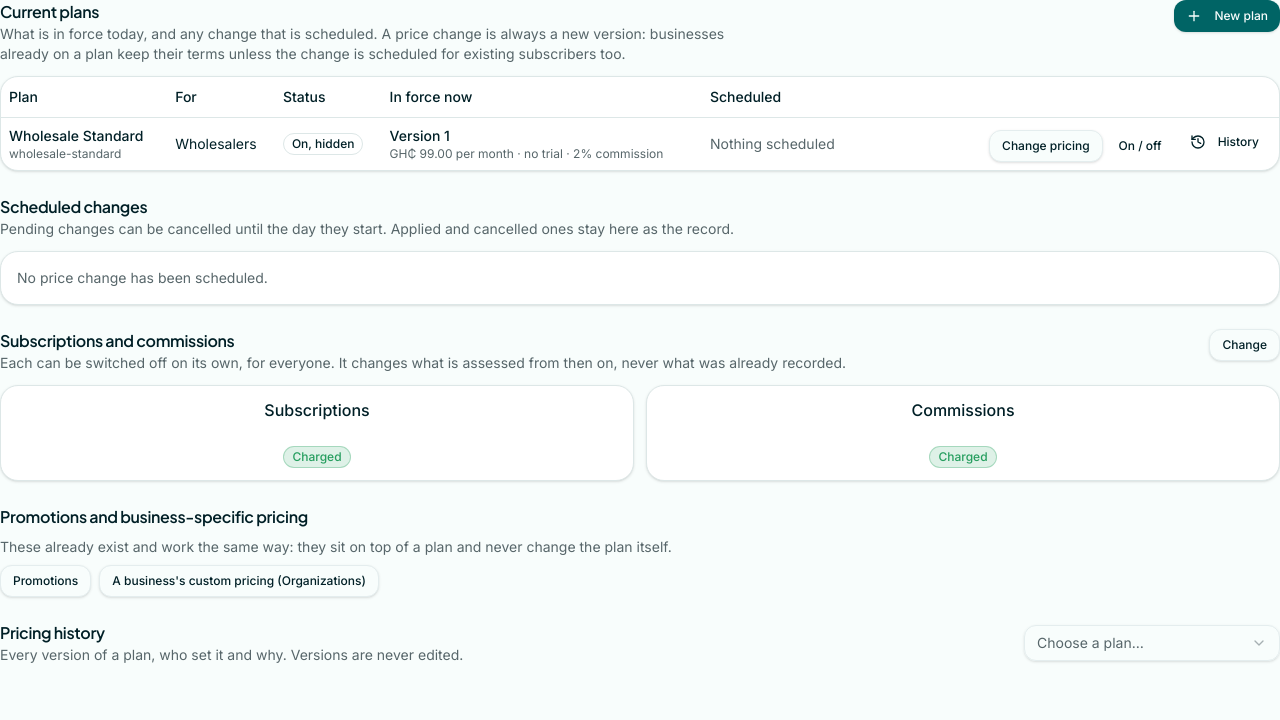
the recommended starting terms only fill the form: nothing is saved
Click the button "Change pricing" at (1046, 146), box [989, 130, 1103, 162]
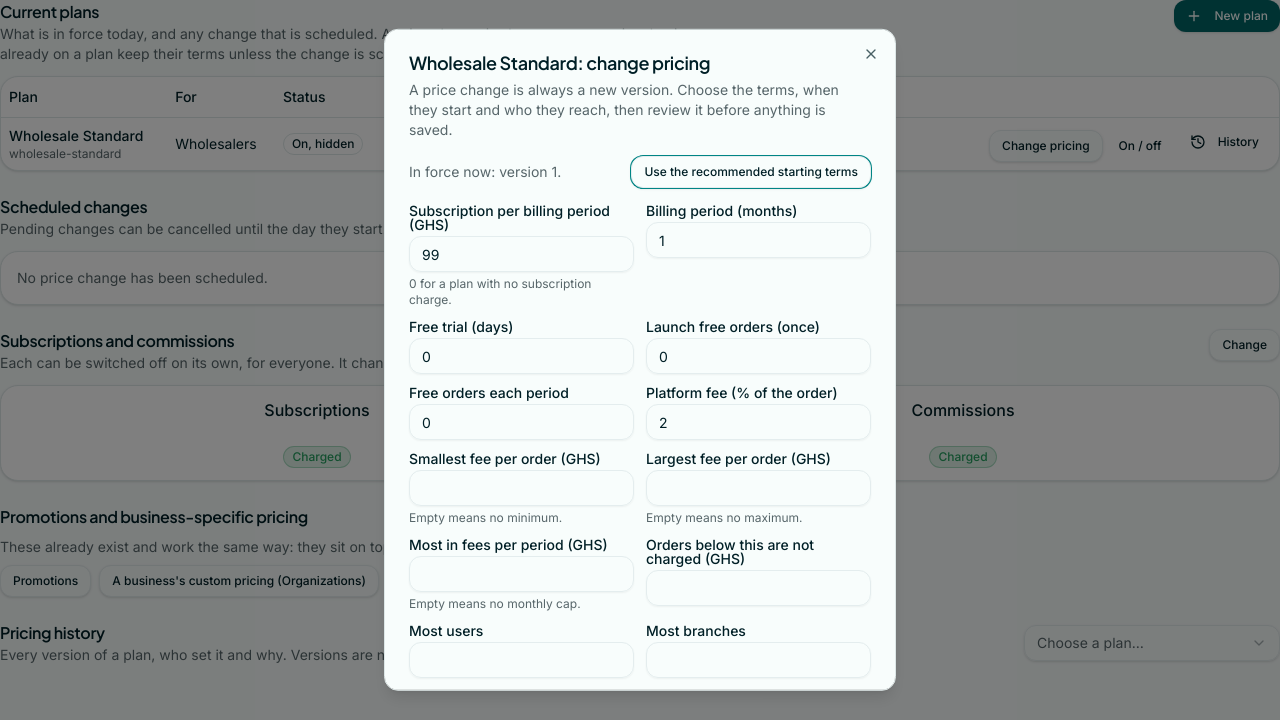
Click the button "Use the recommended starting terms" at (751, 172), box [631, 156, 871, 188]
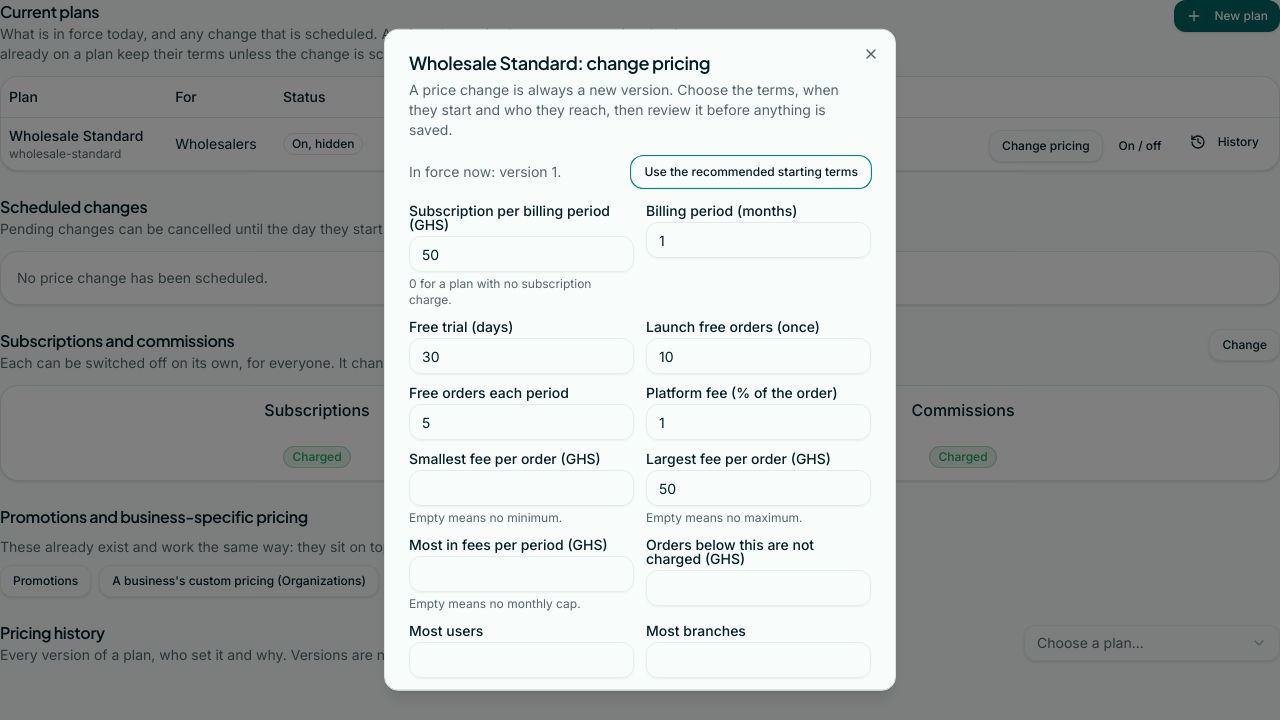
Result: the field labelled "Subscription per billing period (GHS)" holds "50" at [409, 236, 634, 272]
Result: the field labelled "Free trial (days)" holds "30" at [409, 338, 634, 374]
Result: the field labelled "Launch free orders (once)" holds "10" at [646, 338, 871, 374]
